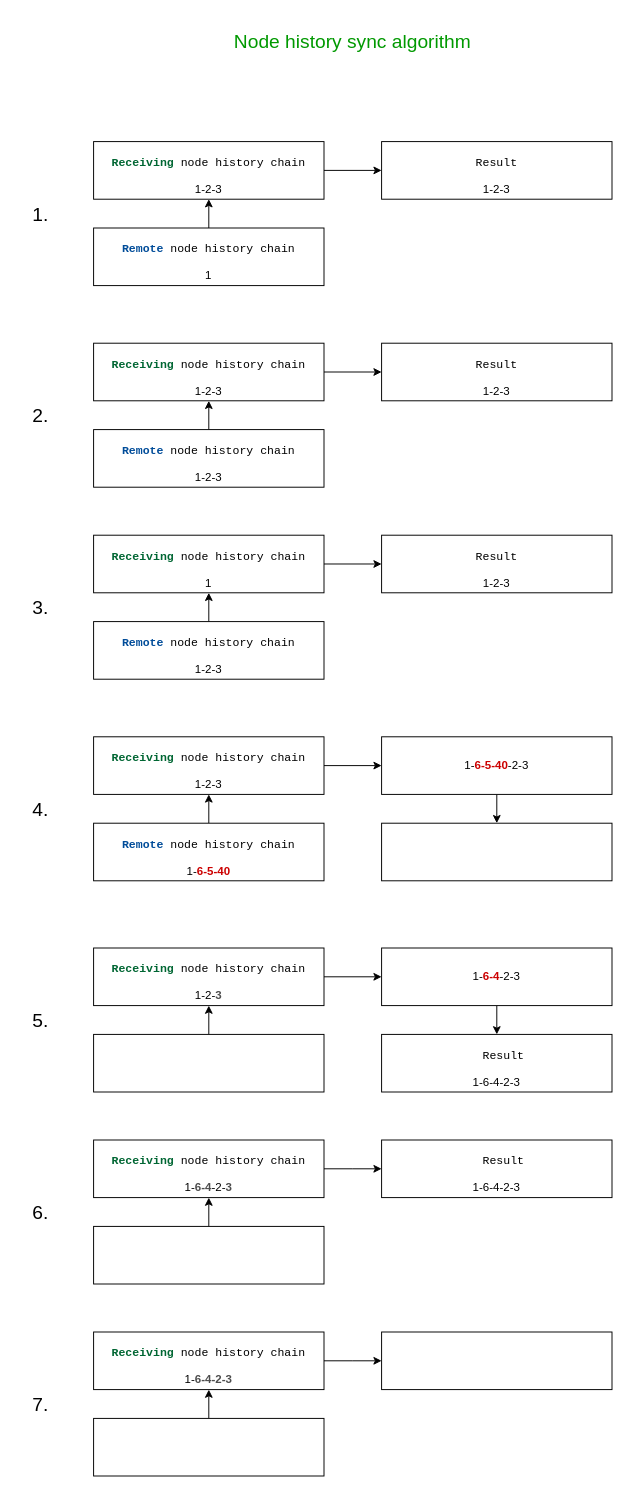
The diagram is 629 pixels wide and 1493 high, and some of its shapes have lost their labels. The shapes that lost their labels are listed below. From the top down, each one's box as (x1, y1, x2, y2) in pixels, then its label:
(381, 822, 612, 881): Result 1-6-5-40-2-3
(93, 1033, 324, 1092): Remote node history chain 1- 6- 3 -4
(93, 1225, 324, 1284): Remote node history chain 1- 6-3-4
(381, 1331, 612, 1390): Result 1-6-3-4-2
(93, 1417, 324, 1476): Remote node history chain 1- 6-3-4-2
